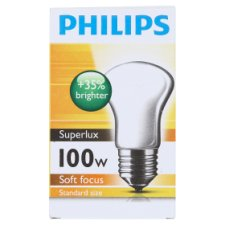Light_bulb: (101, 60, 173, 193)
